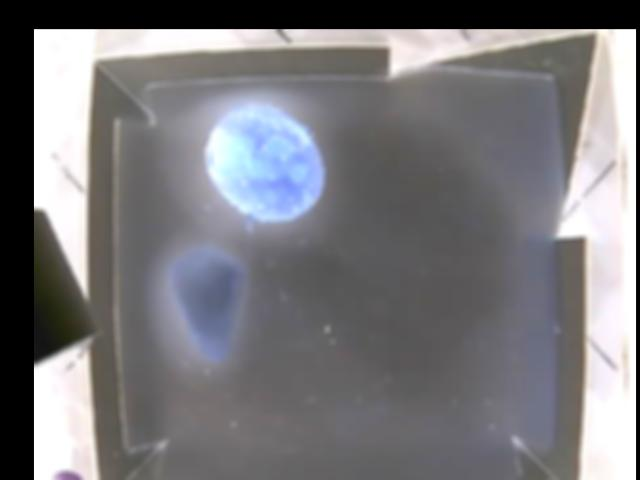Mooli: (170, 250, 248, 362)
Potato: (204, 106, 326, 223)
